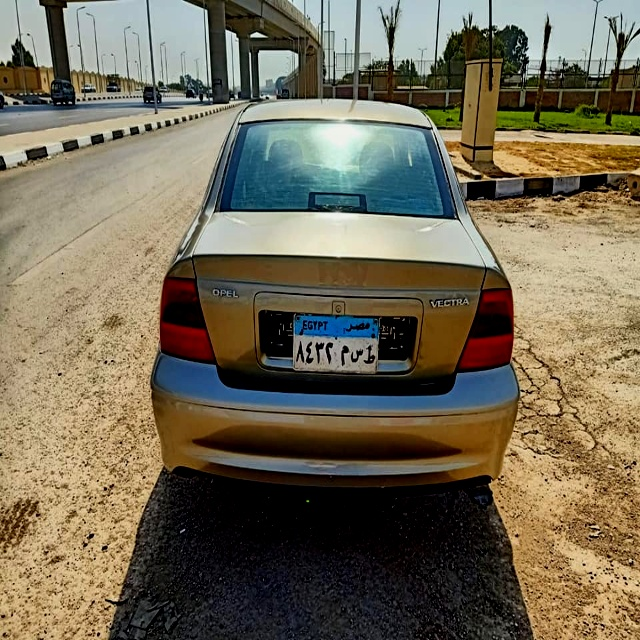License Plate: (292, 315, 379, 375)
